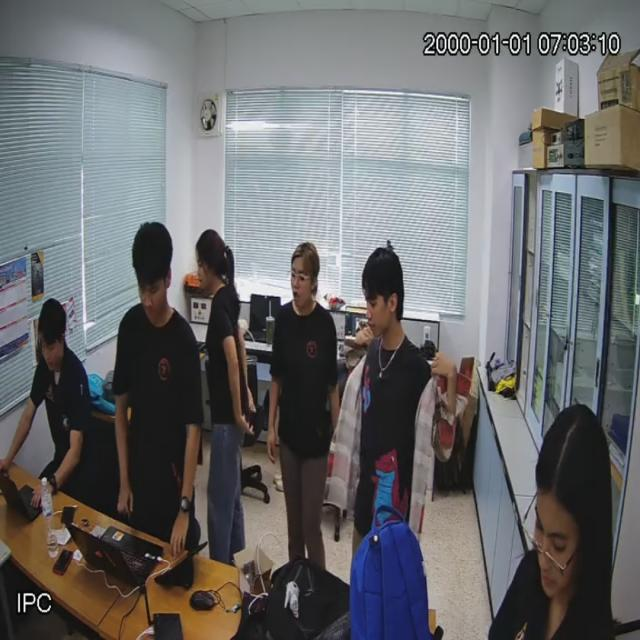normal: (115, 224, 202, 556), (348, 246, 435, 541), (268, 239, 336, 566), (0, 300, 94, 507), (198, 228, 249, 552)
